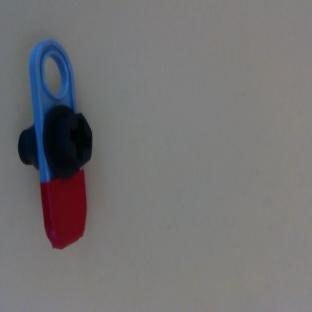part_1_good: (10, 39, 102, 251)
